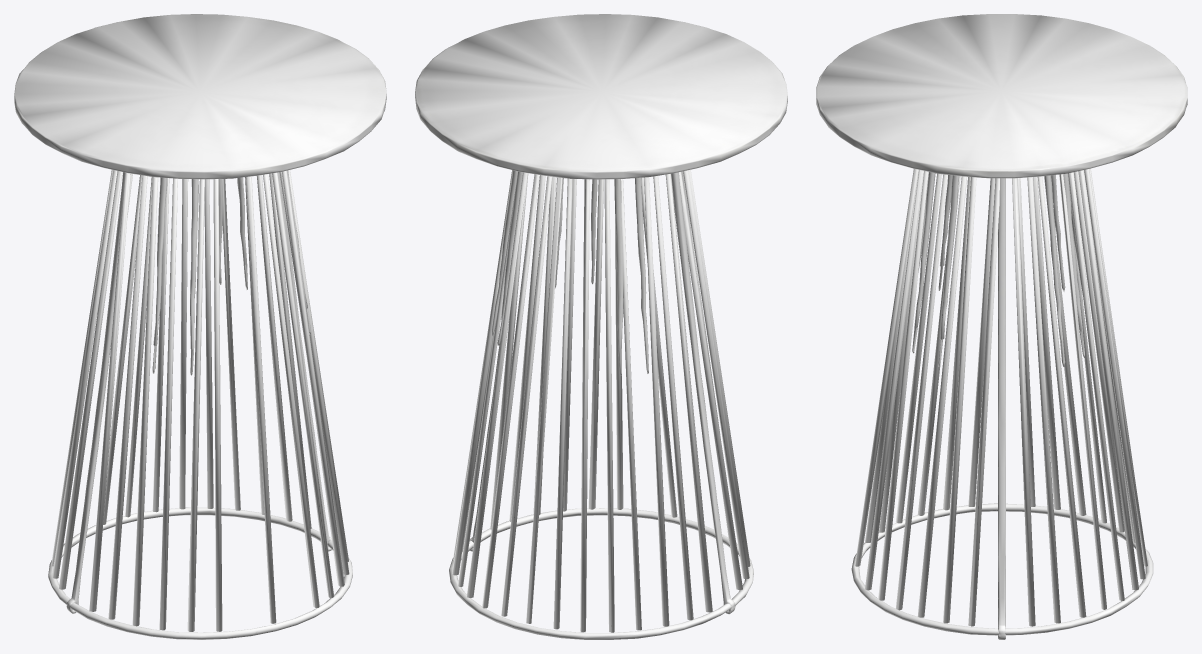
The model's file is Bright_White_Cocktail_0404040823_texture.glb.
3 views of the same model, side by side, from view 1: azimuth 30°, elevation 25°; view 2: azimuth 150°, elevation 25°; view 3: azimuth 270°, elevation 25° (orthographic).
Visible parts, largest first — view 1: Mesh_0; view 2: Mesh_0; view 3: Mesh_0.
Boxes of the visible parts, x1,y1,x2,y2 form: Mesh_0: [14, 14, 386, 639]; Mesh_0: [415, 14, 787, 639]; Mesh_0: [816, 14, 1187, 639].
Bounding box in the file's own units: 0.7382 × 1.07 × 0.7382.
Materials: 1 (1 with a texture image).
